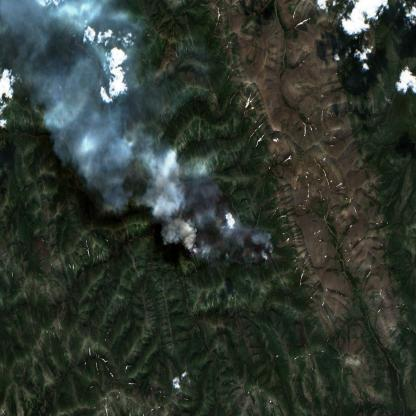fire: (161, 182, 275, 278)
